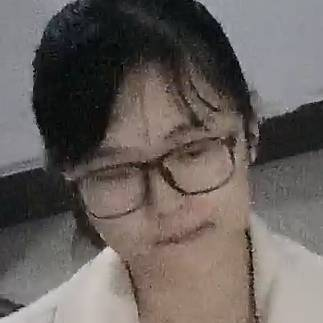ly: (18, 21, 295, 298)
